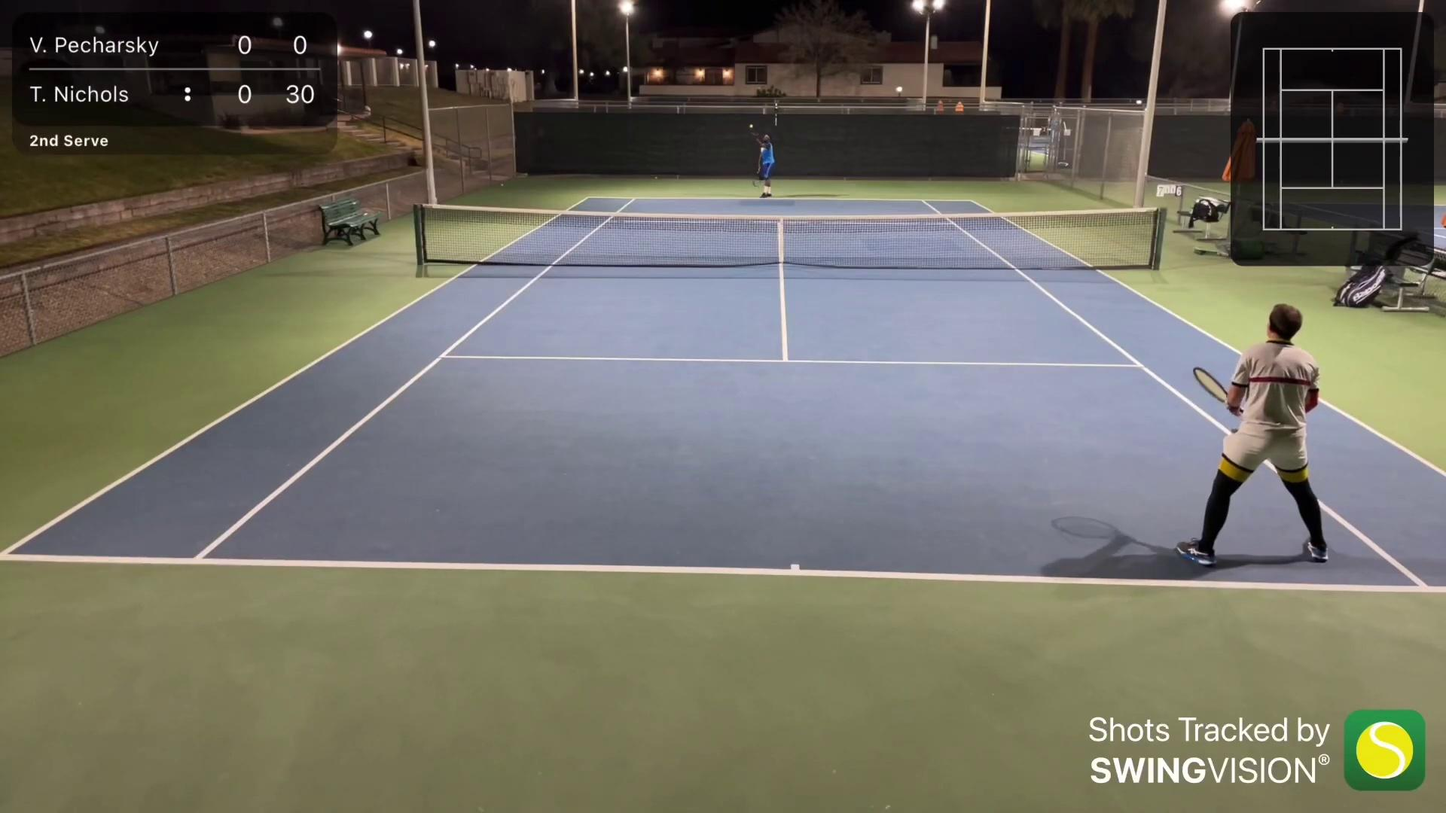ball: (747, 123, 755, 129)
